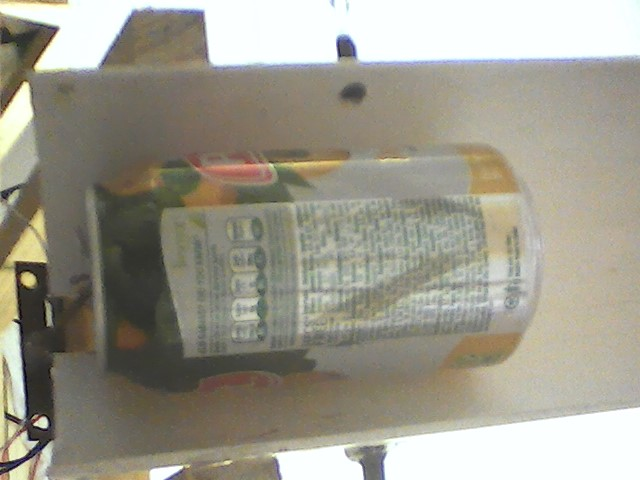lata: (78, 137, 555, 398)
